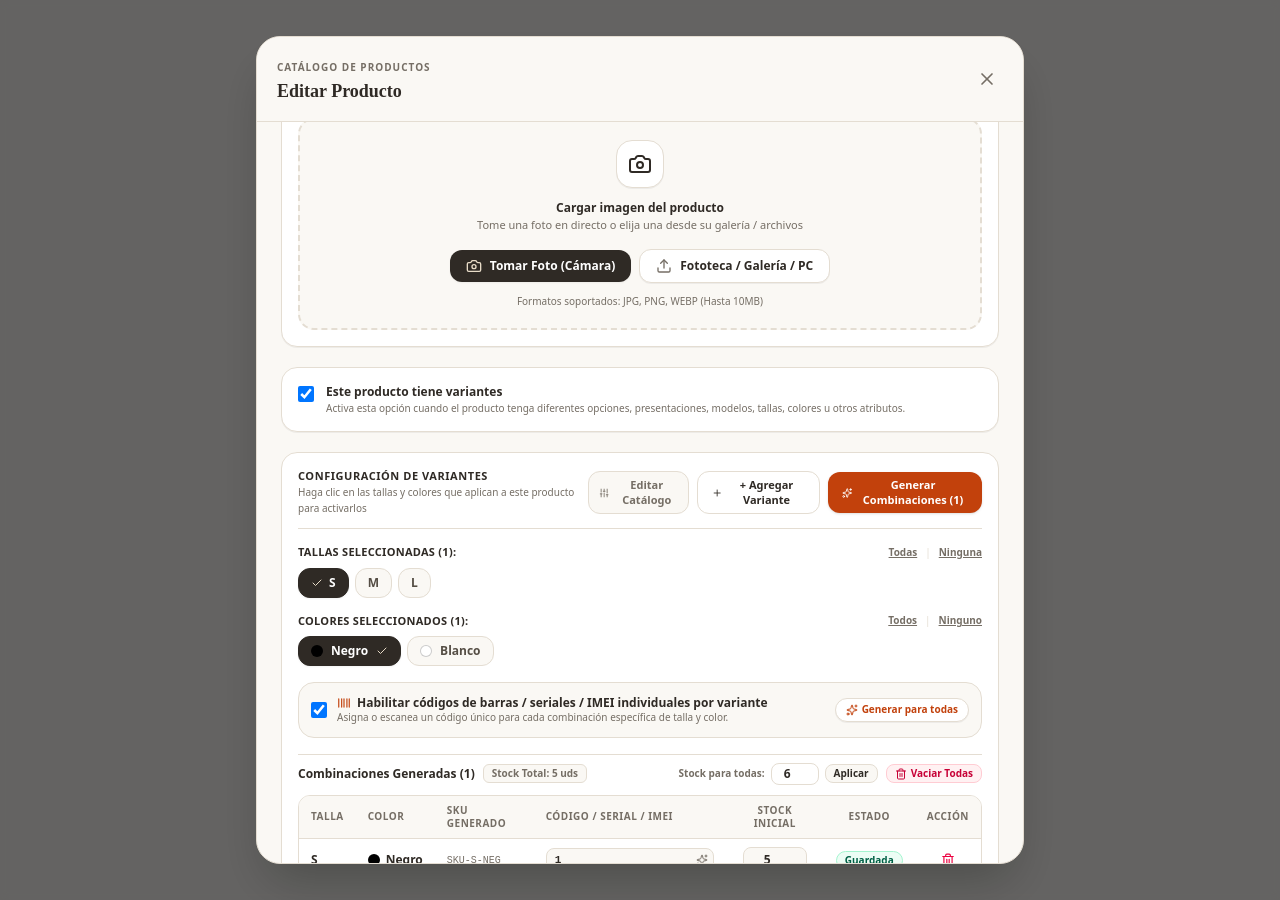
Test: ProductFormModal -- columna Estado (Guardada/Nueva, Parte 12) › marca una variante existente como "Guardada" y una nueva como "Nueva"
(page scrolled)
Expected: the text "Guardada" is shown, [836,851,903,863]
Click the button "+ Agregar Variante" at (758, 493), box [697,471,820,514]
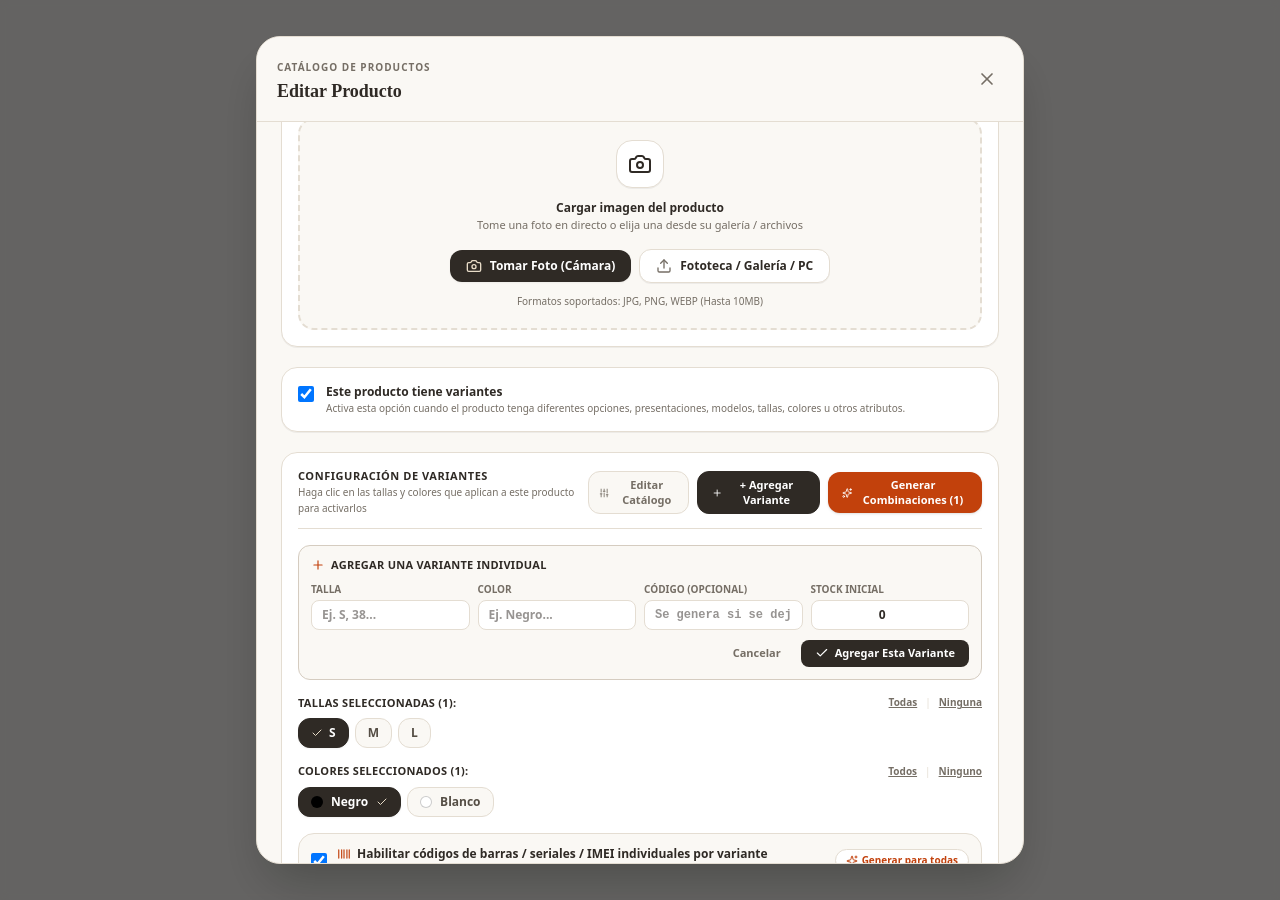
Type "M" into the field with placeholder "Ej. S, 38..." at (390, 615), box [311,600,470,630]
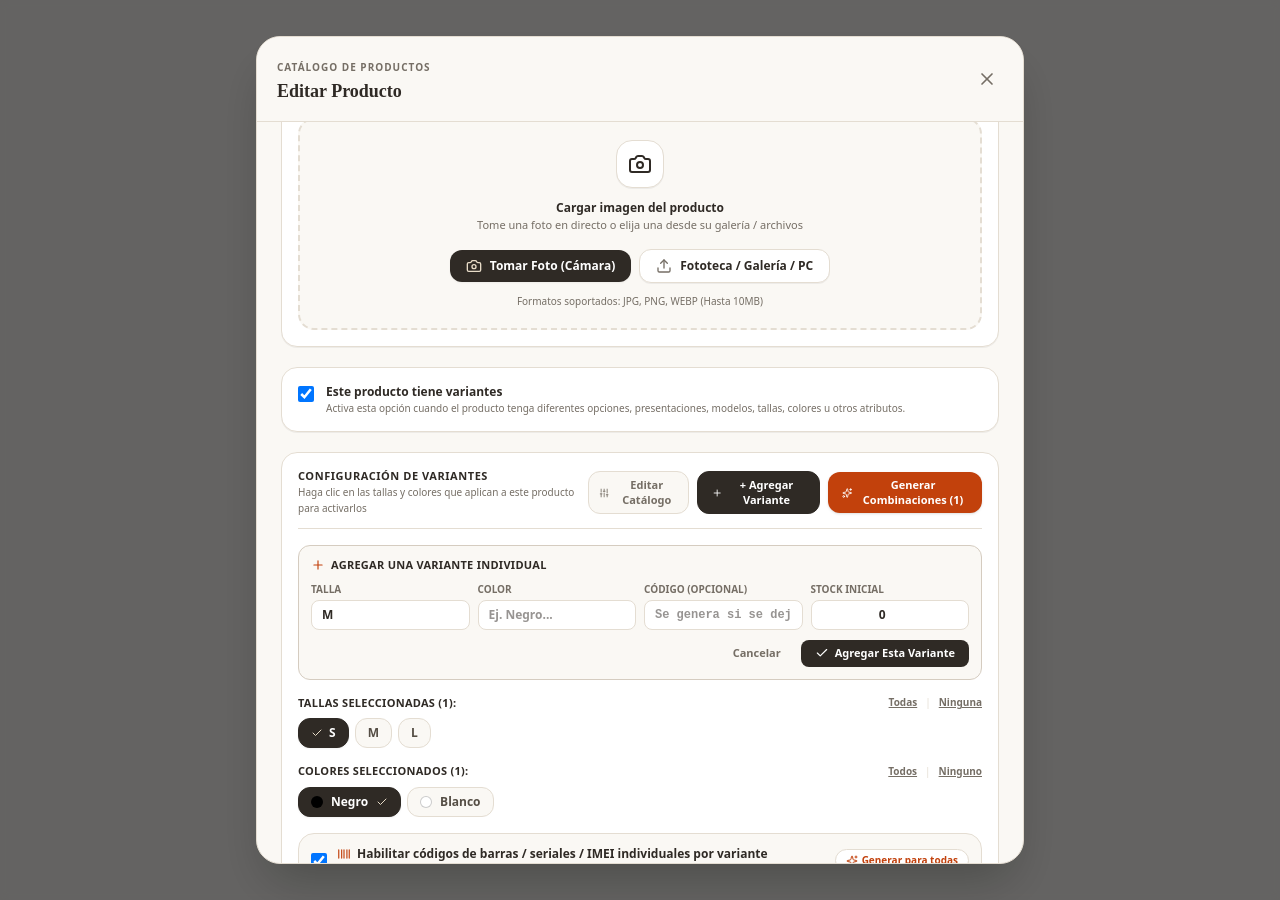
Type "Negro" into the field with placeholder "Ej. Negro..." at (557, 615), box [478,600,636,630]
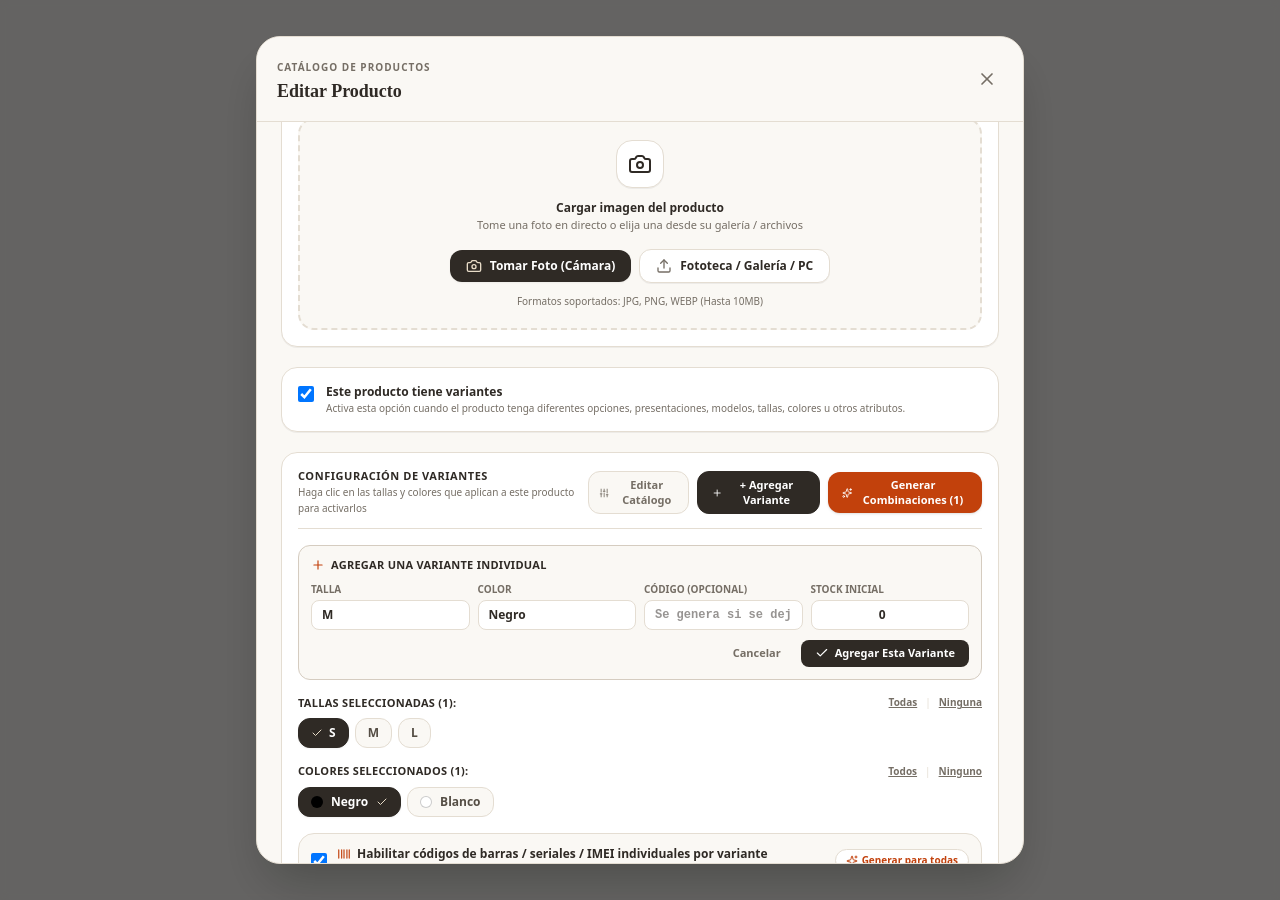
Click the button "Agregar Esta Variante" at (885, 653), box [801,640,969,667]
(page scrolled)
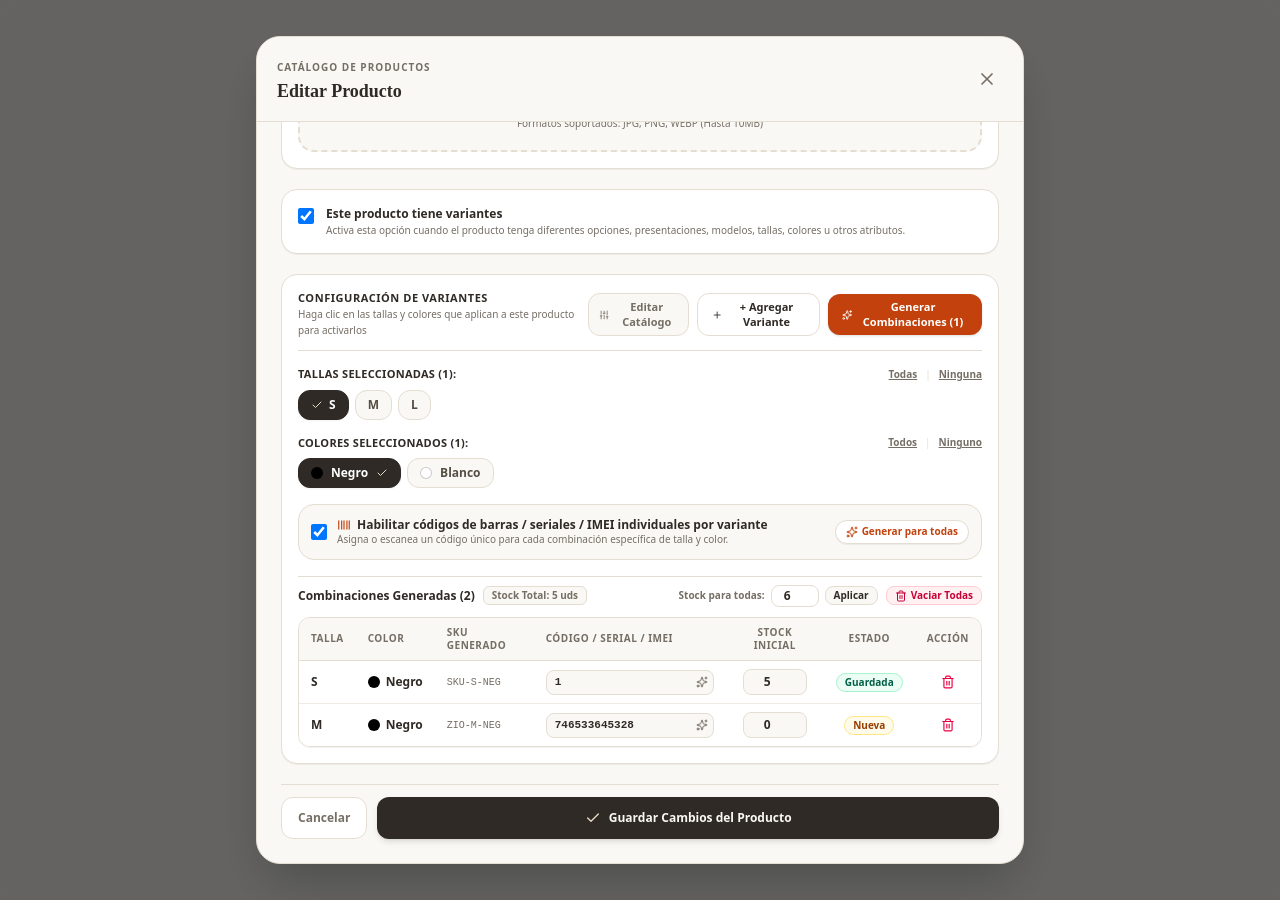
Expected: the text "Guardada" is shown, [836,673,903,692]
Expected: the text "Nueva" is shown, [844,716,894,735]
